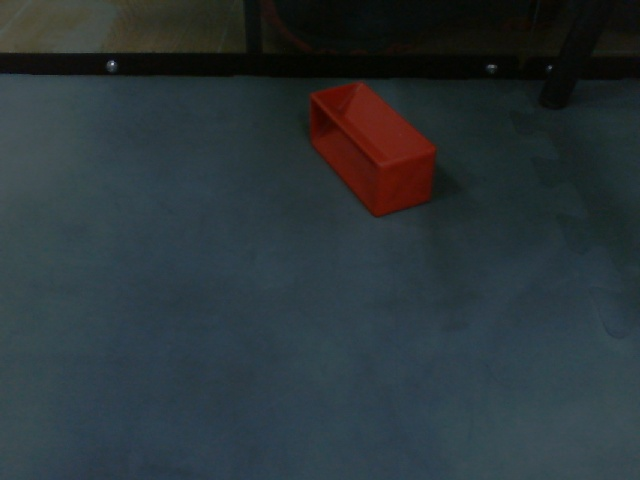RedSample: (306, 80, 439, 220)
